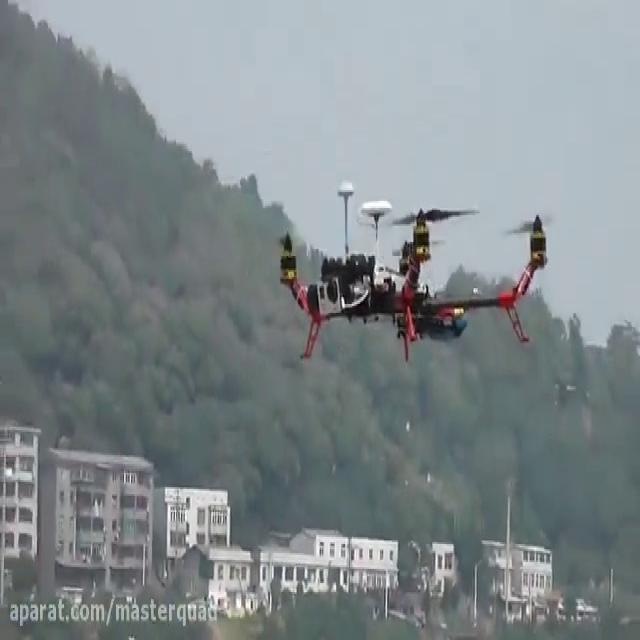drone: (267, 174, 561, 364)
